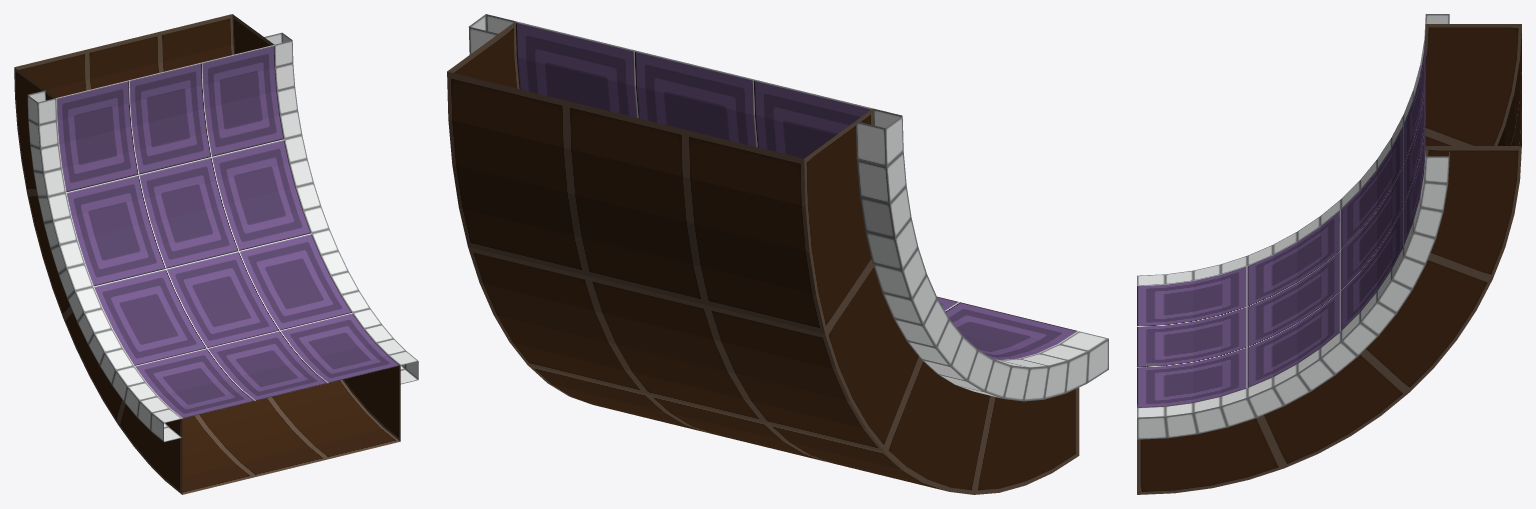
File: ParCoreCurve1.obj
The picture shows the model from 3 angles, left to right: view 1: azimuth 30°, elevation 25°; view 2: azimuth 150°, elevation 25°; view 3: azimuth 270°, elevation 25°; orthographic projection. The views are drawn at different scales.
Visible parts, largest first — view 1: ParCoreCurve1; view 2: ParCoreCurve1; view 3: ParCoreCurve1.
Boxes of the visible parts, <box> form: ParCoreCurve1: <box>14,14,418,494</box>; ParCoreCurve1: <box>447,14,1108,494</box>; ParCoreCurve1: <box>1137,14,1521,494</box>.
Bounding box in the file's own units: 7 × 8 × 8.
